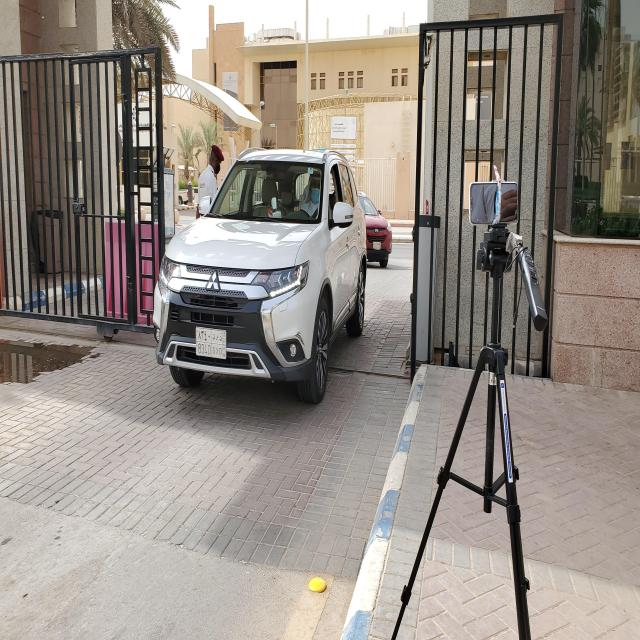license_plate: (195, 326, 227, 361)
